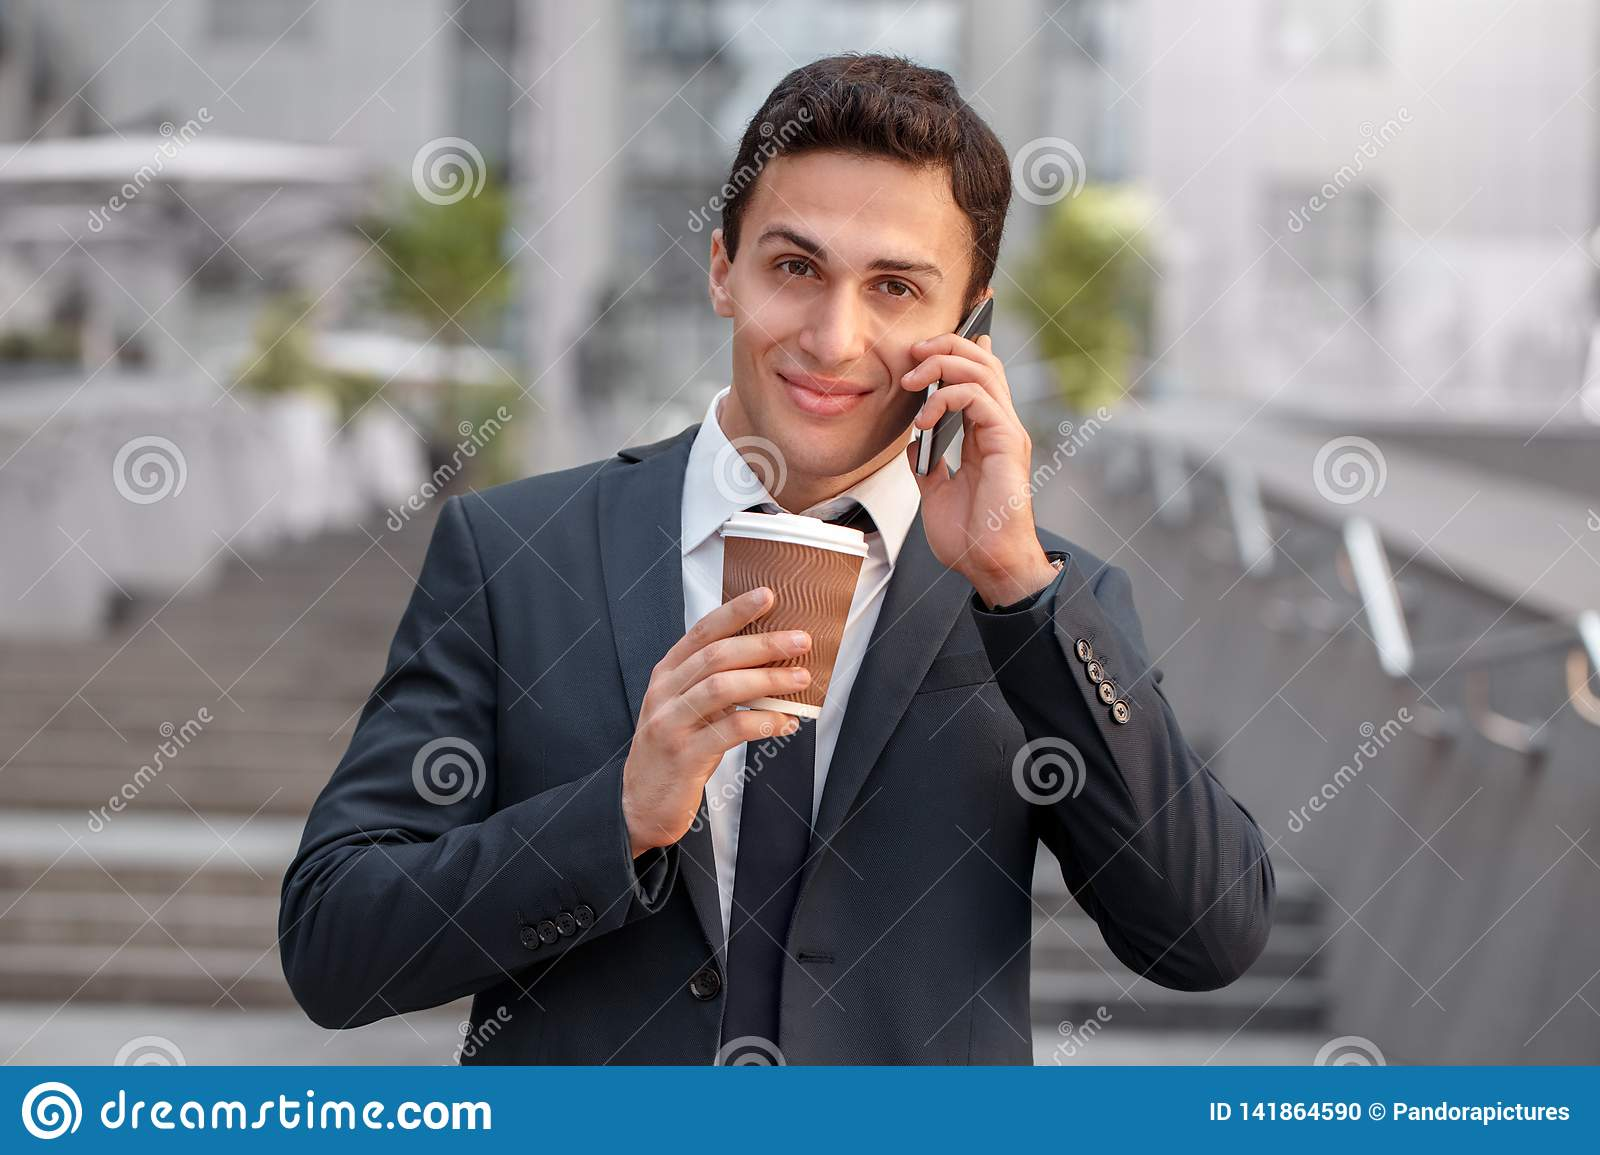phone: (919, 284, 998, 474)
talk: (734, 219, 1035, 586)
